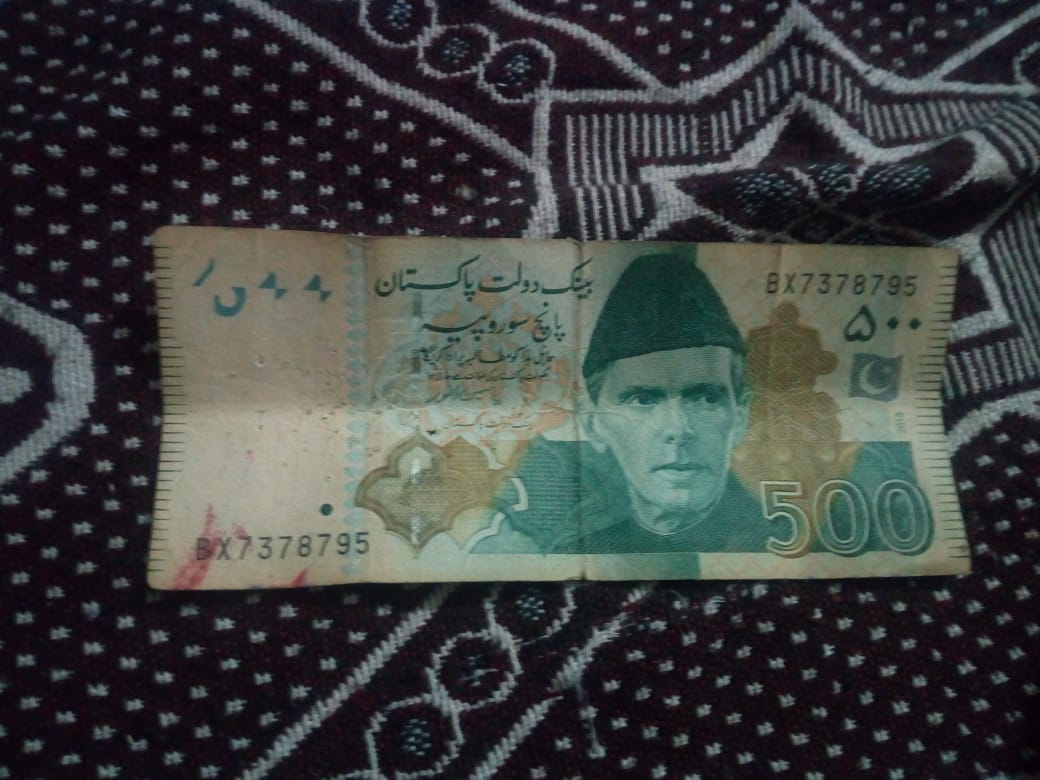500 rupee: (117, 216, 991, 606)
